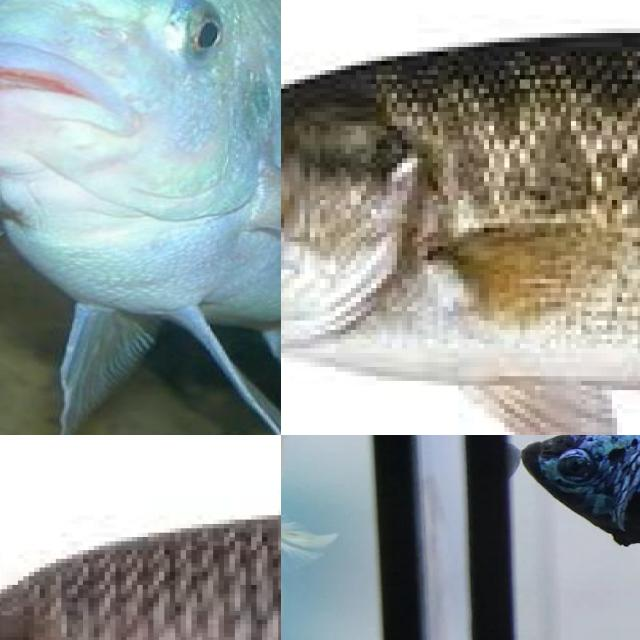fish: (0, 0, 281, 435), (281, 93, 640, 343), (0, 550, 281, 640), (509, 526, 640, 640)
